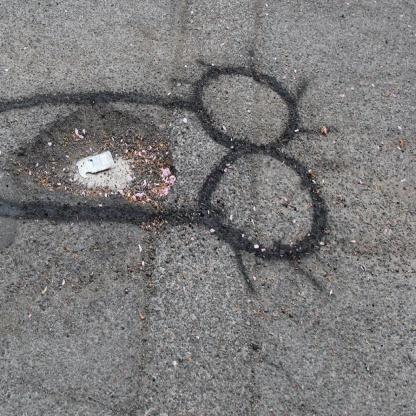pothole: (2, 104, 181, 208)
